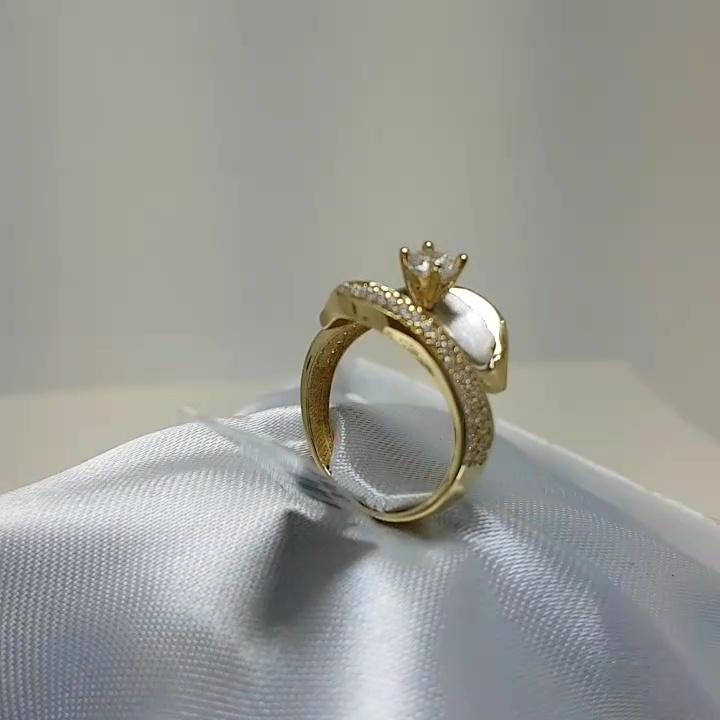Ring 6: (291, 217, 528, 545)
